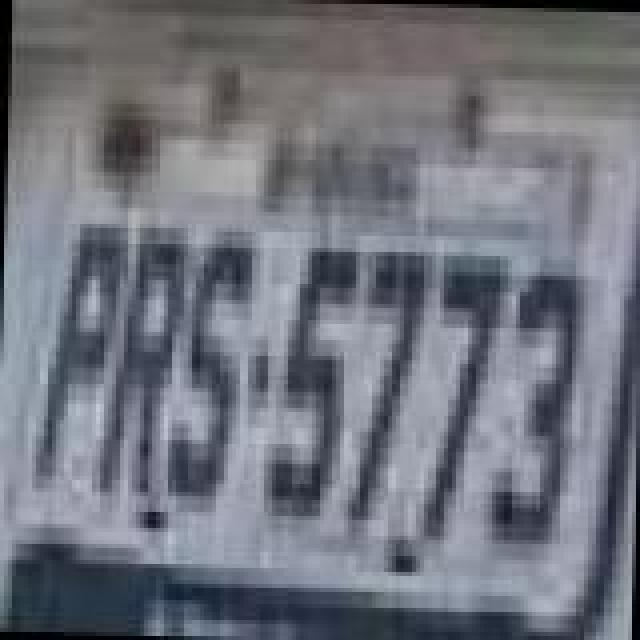3: (484, 254, 592, 562)
5: (258, 240, 362, 528)
7: (344, 242, 436, 530), (416, 252, 508, 540)
P: (28, 212, 120, 484)
R: (96, 222, 188, 494)
S: (158, 228, 254, 516)
